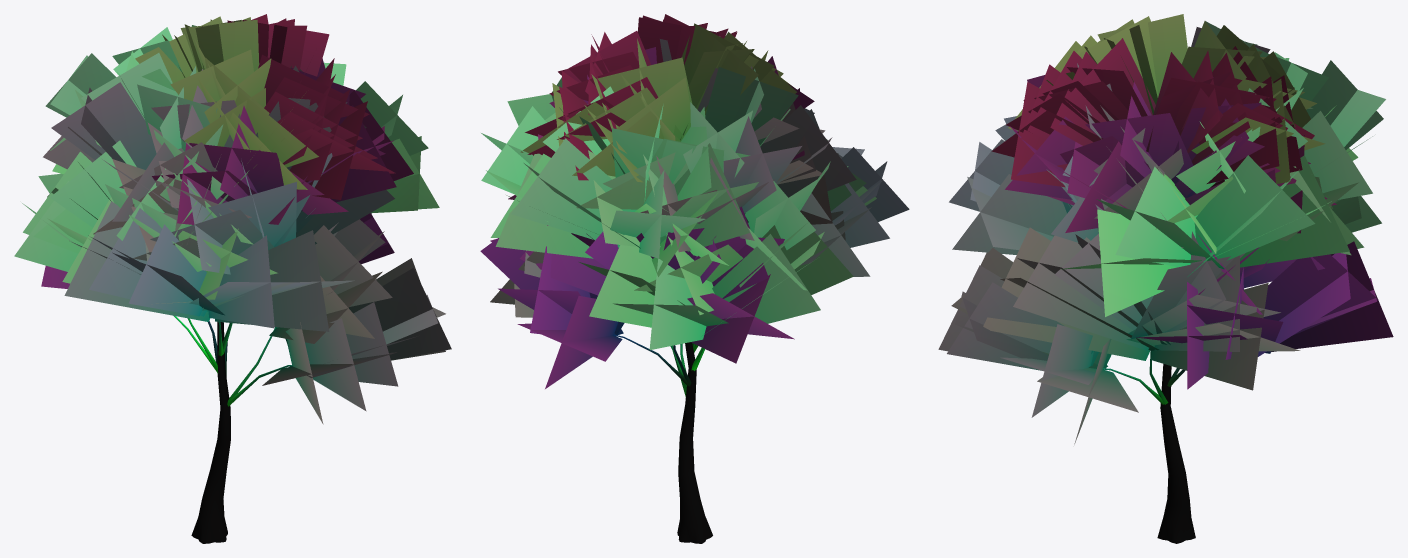
Rendered from Tree_8_2.fbx.
3 views of the same model, side by side, from view 1: azimuth 30°, elevation 25°; view 2: azimuth 150°, elevation 25°; view 3: azimuth 270°, elevation 25° (orthographic). The views are drawn at different scales.
Parts seen in each view (by area): view 1: _5; view 2: _5; view 3: _5.
Part boxes in pixels (left/top/right/bottom): _5: left=14, top=14, right=451, bottom=543; _5: left=480, top=14, right=909, bottom=543; _5: left=938, top=14, right=1393, bottom=543.
Bounding box in the file's own units: 908 × 1210 × 969.
